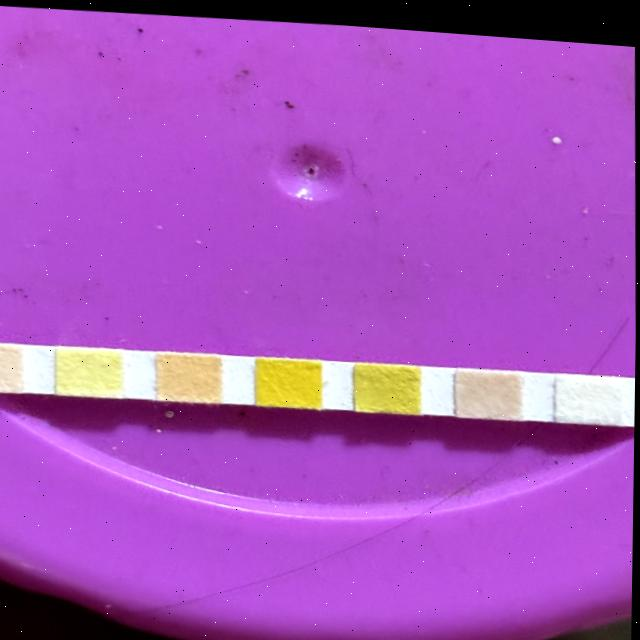Bilirubin: (558, 368, 622, 415)
Blood: (256, 354, 321, 403)
Ketone: (457, 363, 521, 412)
Protein: (59, 347, 124, 395)
SpGravity: (356, 357, 421, 408)
Urobilinogen: (0, 346, 25, 392)
pH: (161, 352, 220, 399)
